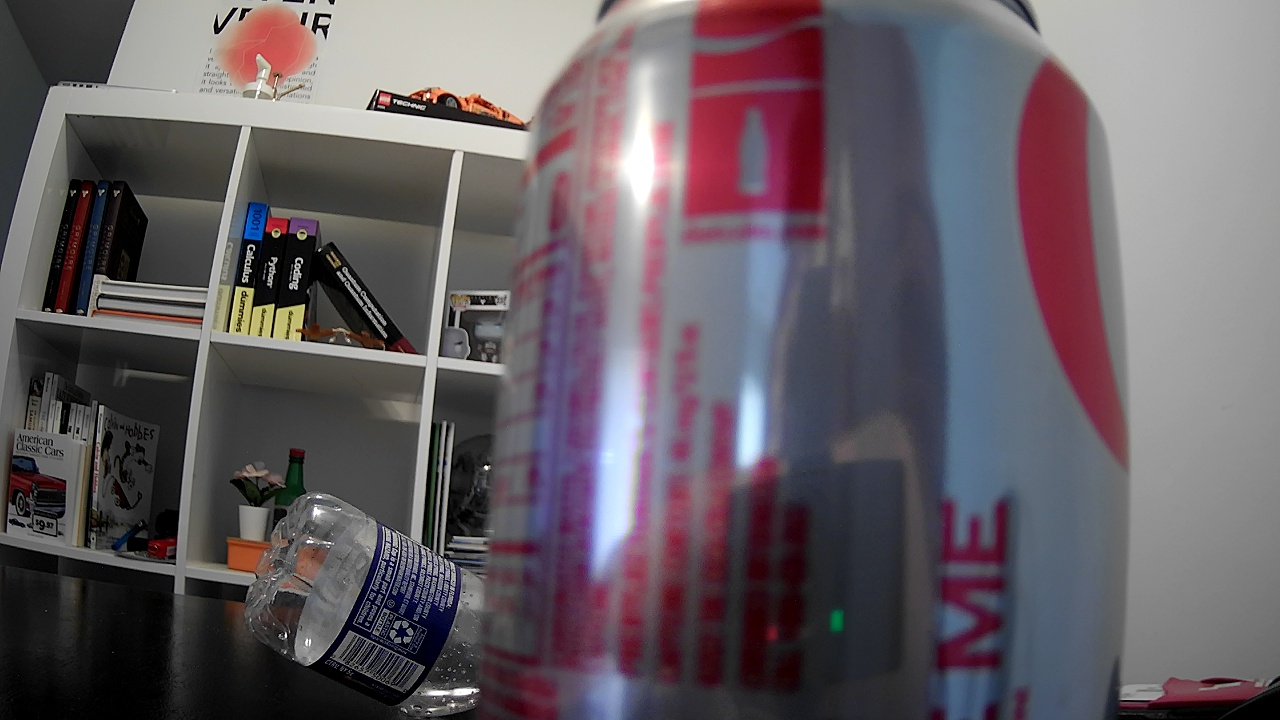recycling: (490, 43, 1138, 720), (237, 463, 538, 692)
